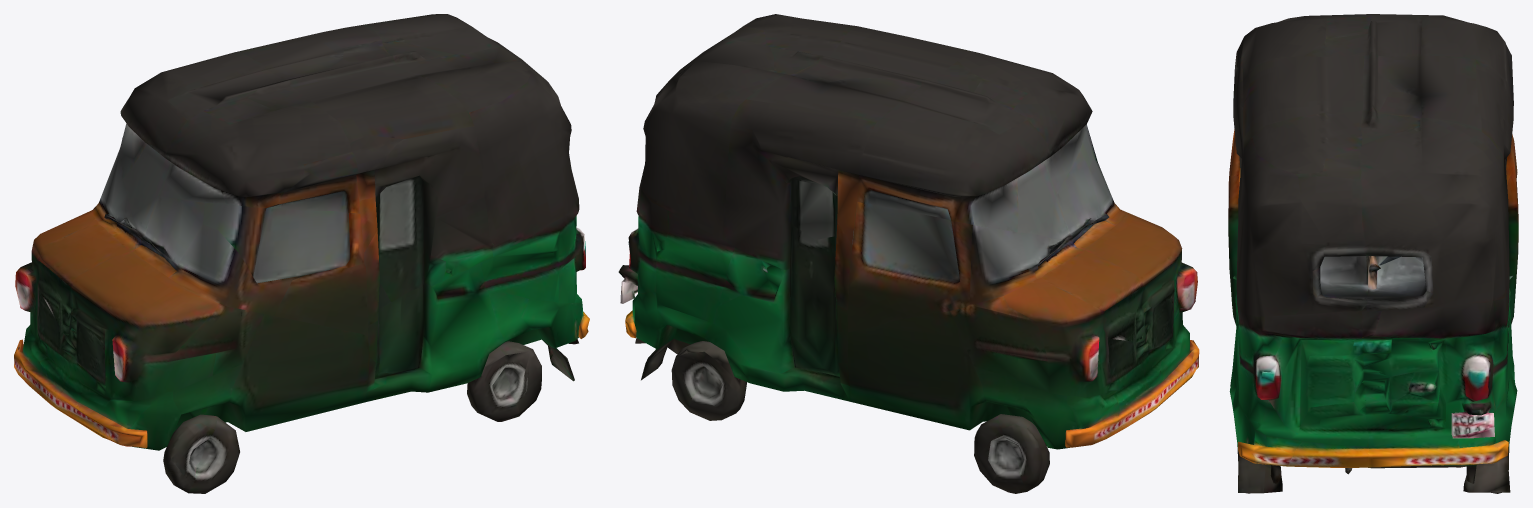
The model's file is keke.glb.
3 renders of one model, left to right at view 1: azimuth 30°, elevation 25°; view 2: azimuth 150°, elevation 25°; view 3: azimuth 270°, elevation 25°, orthographic. The views are drawn at different scales.
Visible parts, largest first — view 1: tripo_node_a033fe5f-c2af-4aad-9586-5dda5f6c340a; view 2: tripo_node_a033fe5f-c2af-4aad-9586-5dda5f6c340a; view 3: tripo_node_a033fe5f-c2af-4aad-9586-5dda5f6c340a.
Part boxes in pixels (bbox=[...]): tripo_node_a033fe5f-c2af-4aad-9586-5dda5f6c340a: bbox=[14, 14, 589, 493]; tripo_node_a033fe5f-c2af-4aad-9586-5dda5f6c340a: bbox=[618, 14, 1199, 493]; tripo_node_a033fe5f-c2af-4aad-9586-5dda5f6c340a: bbox=[1228, 14, 1518, 493].
Bounding box in the file's own units: 0.9975 × 0.6543 × 0.4839.
Materials: 1 (1 with a texture image).
